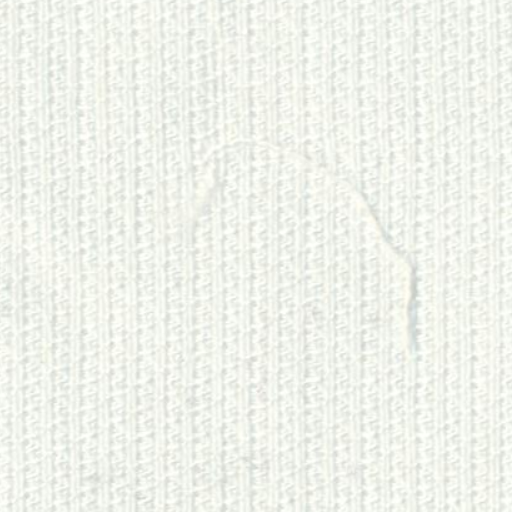DuanSha: (176, 127, 420, 366)
